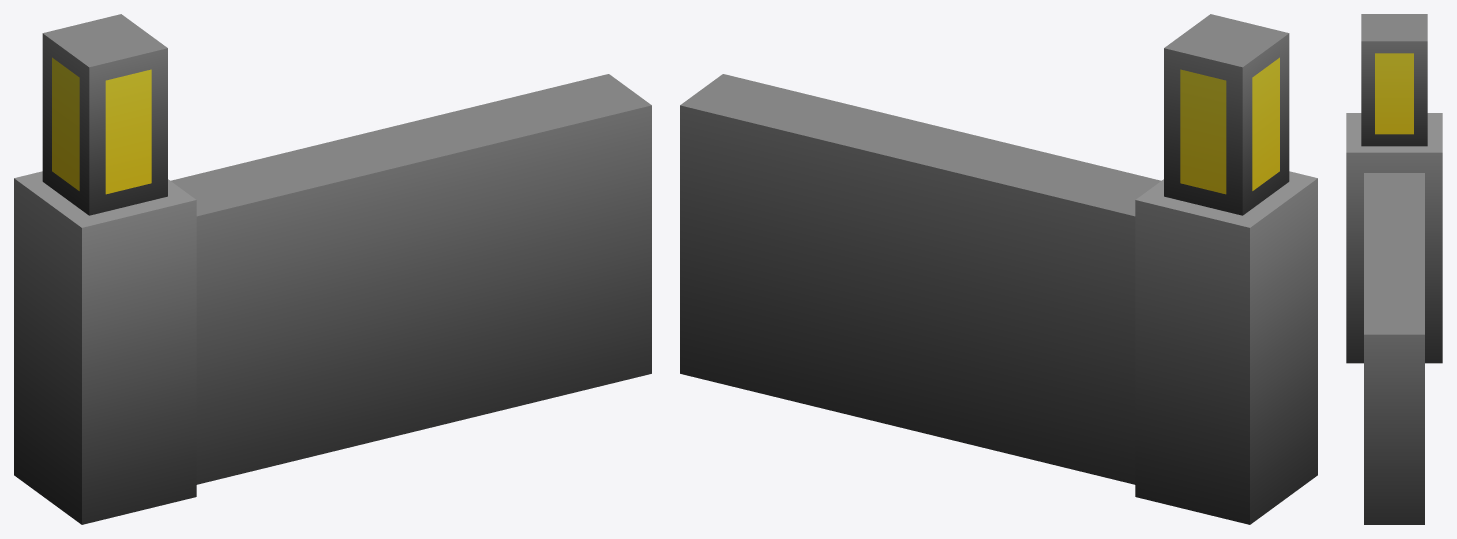
Rendered from fence modern.fbx.
The picture shows the model from 3 angles, left to right: view 1: azimuth 30°, elevation 25°; view 2: azimuth 150°, elevation 25°; view 3: azimuth 270°, elevation 25°; orthographic projection. The views are drawn at different scales.
Visible parts, largest first — view 1: fence_modern; view 2: fence_modern; view 3: fence_modern.
Boxes of the visible parts, <box> form: fence_modern: <box>14,14,651,524</box>; fence_modern: <box>680,14,1317,524</box>; fence_modern: <box>1346,14,1442,524</box>.
Size of the model in its own units: 295 by 216 by 59.57.
1 material, 1 textured.
